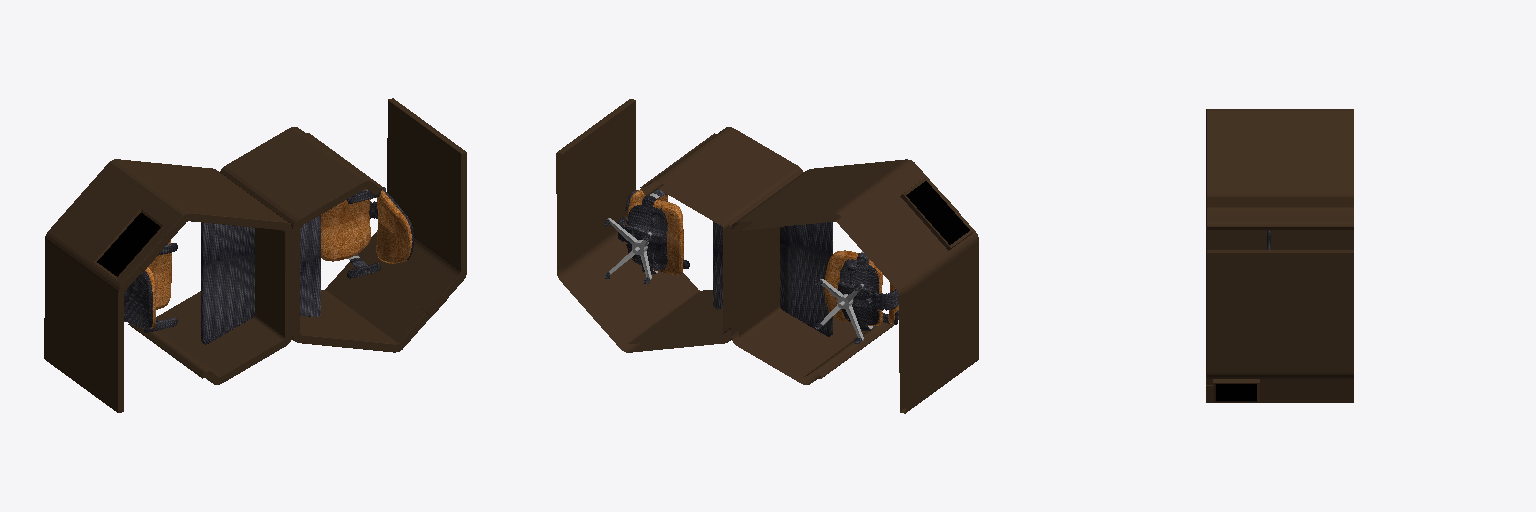
3 renders of one model, left to right at view 1: azimuth 30°, elevation 25°; view 2: azimuth 150°, elevation 25°; view 3: azimuth 270°, elevation 25°, orthographic.
Parts seen in each view (by area): view 1: Cylinder.006_Cylinder.007, Cylinder.003_Cylinder.020, Plane.005, Cube_Cube.003, Cube.001_Cube.000_Cube.001_Cube.011, Plane.001_Plane.009, Cube.008_Cube.000_Cube.008_Cube.010, Cube.010_Cube.006_Cube.010_Cube.008, Cube.001_Cube.006_Cube.001_Cube.009; view 2: Cylinder.006_Cylinder.007, Cylinder.003_Cylinder.020, Plane.005, Cube_Cube.003, Cube.003_Cube.000_Cube.003_Cube.011, Cube.003_Cube.006_Cube.003_Cube.009, Cube.001_Cube.000_Cube.001_Cube.011, Cube.001_Cube.006_Cube.001_Cube.009, Plane.001_Plane.009, Cylinder.002_Cylinder.006_Cylinder.002_Cylinder.009, Cylinder.002_Cylinder.000_Cylinder.002_Cylinder.011; view 3: Cylinder.003_Cylinder.020, Cylinder.006_Cylinder.007, Cube.001_Cube.004.
Part boxes in pixels (bbox=[...]): Cylinder.006_Cylinder.007: bbox=[44, 159, 292, 412]; Cylinder.003_Cylinder.020: bbox=[220, 98, 466, 352]; Plane.005: bbox=[201, 223, 254, 344]; Cube_Cube.003: bbox=[93, 209, 166, 281]; Cube.001_Cube.000_Cube.001_Cube.011: bbox=[321, 189, 370, 261]; Plane.001_Plane.009: bbox=[300, 215, 320, 316]; Cube.008_Cube.000_Cube.008_Cube.010: bbox=[376, 190, 412, 263]; Cube.010_Cube.006_Cube.010_Cube.008: bbox=[124, 271, 152, 328]; Cube.001_Cube.006_Cube.001_Cube.009: bbox=[148, 240, 171, 309]; Cylinder.006_Cylinder.007: bbox=[731, 159, 978, 413]; Cylinder.003_Cylinder.020: bbox=[556, 99, 803, 352]; Plane.005: bbox=[780, 222, 832, 336]; Cube_Cube.003: bbox=[900, 177, 973, 250]; Cube.003_Cube.000_Cube.003_Cube.011: bbox=[627, 205, 667, 271]; Cube.003_Cube.006_Cube.003_Cube.009: bbox=[838, 259, 878, 324]; Cube.001_Cube.000_Cube.001_Cube.011: bbox=[626, 200, 683, 274]; Cube.001_Cube.006_Cube.001_Cube.009: bbox=[824, 250, 882, 325]; Plane.001_Plane.009: bbox=[713, 221, 722, 309]; Cylinder.002_Cylinder.006_Cylinder.002_Cylinder.009: bbox=[820, 279, 863, 340]; Cylinder.002_Cylinder.000_Cylinder.002_Cylinder.011: bbox=[607, 218, 651, 279]; Cylinder.003_Cylinder.020: bbox=[1206, 197, 1353, 402]; Cylinder.006_Cylinder.007: bbox=[1206, 109, 1353, 197]; Cube.001_Cube.004: bbox=[1206, 379, 1259, 402].
Size of the model in its own units: 3.39 by 1.77 by 1.25.
9 materials, 2 textured.